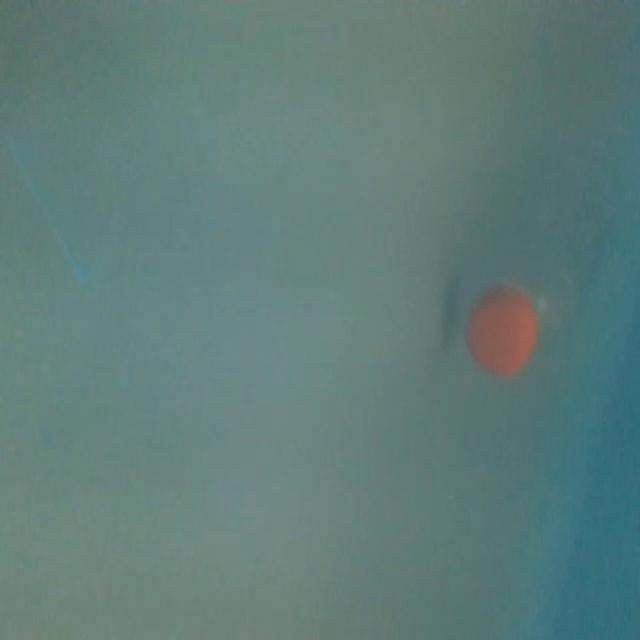plastic bottle: (462, 160, 596, 379)
